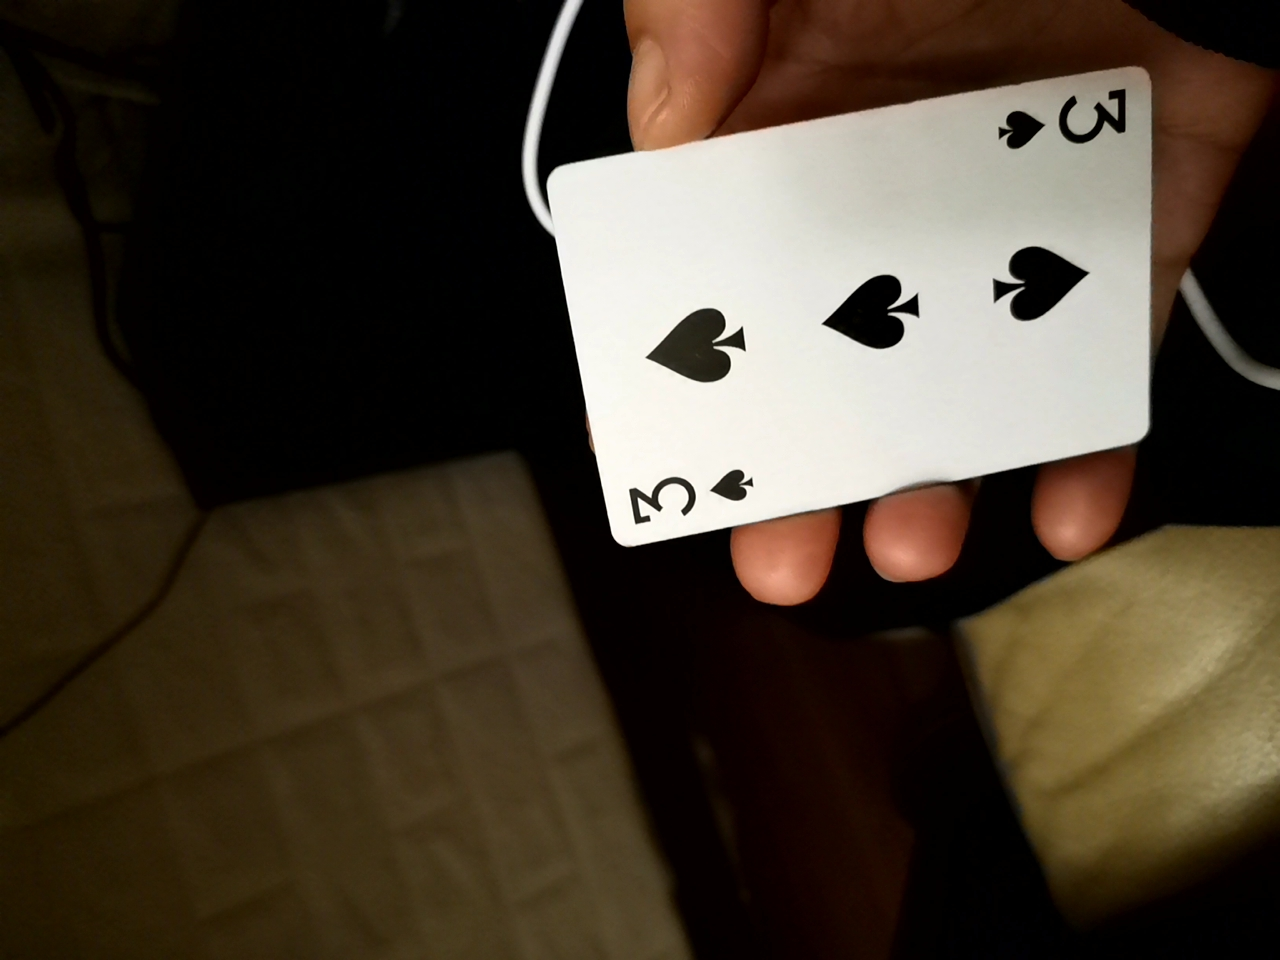ht 3: (524, 66, 1162, 534)
